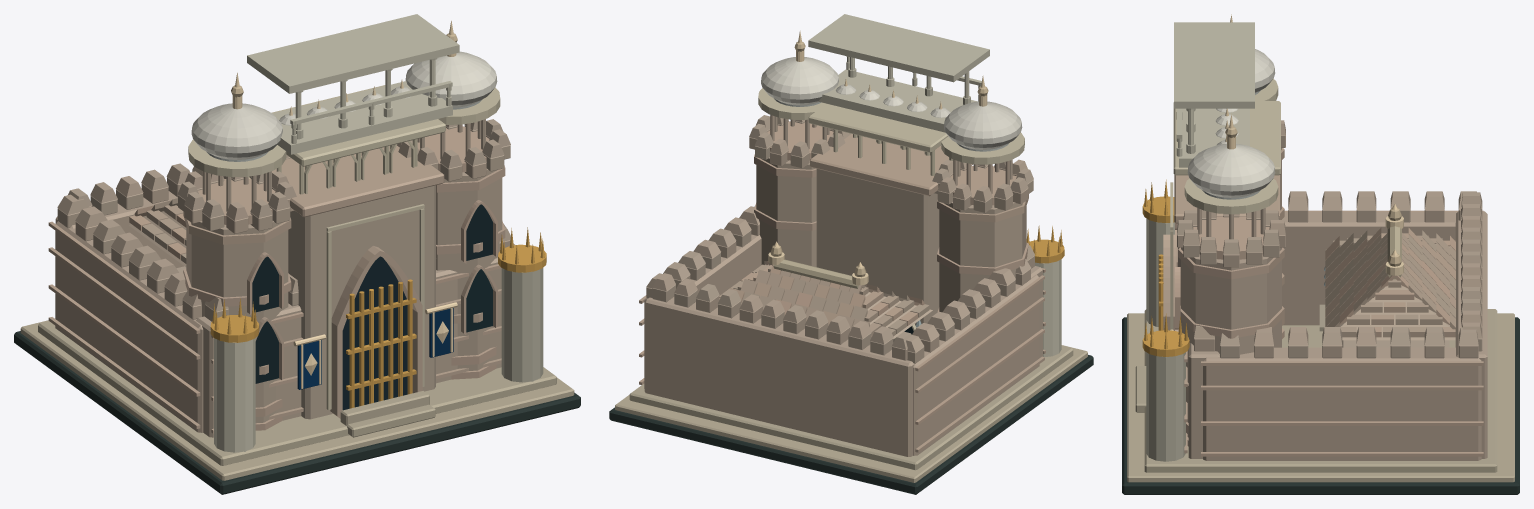
The picture shows the model from 3 angles, left to right: view 1: azimuth 30°, elevation 25°; view 2: azimuth 150°, elevation 25°; view 3: azimuth 270°, elevation 25°; orthographic projection. The views are drawn at different scales.
Visible parts, largest first — view 1: barracks_L4_0, barracks_L4_1; view 2: barracks_L4_0, barracks_L4_1; view 3: barracks_L4_0, barracks_L4_1.
Part boxes in pixels (<box>): barracks_L4_0: <box>14,14,580,494</box>; barracks_L4_1: <box>210,20,546,408</box>; barracks_L4_0: <box>609,14,1093,494</box>; barracks_L4_1: <box>768,30,1064,285</box>; barracks_L4_0: <box>1122,22,1519,494</box>; barracks_L4_1: <box>1142,14,1403,356</box>.
Bounding box in the file's own units: 5.6 × 5.43 × 5.6.
